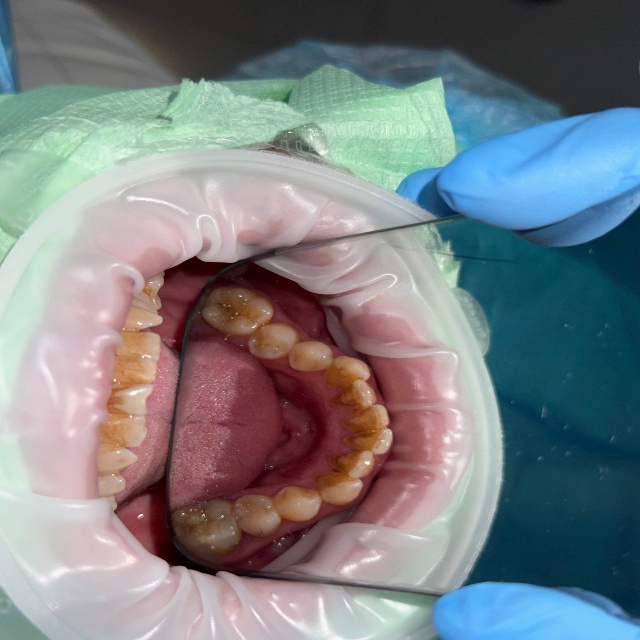clean_tooth: (494, 392, 516, 442)
plaque: (0, 47, 407, 288), (0, 503, 207, 639), (0, 435, 68, 467), (620, 0, 639, 92)
